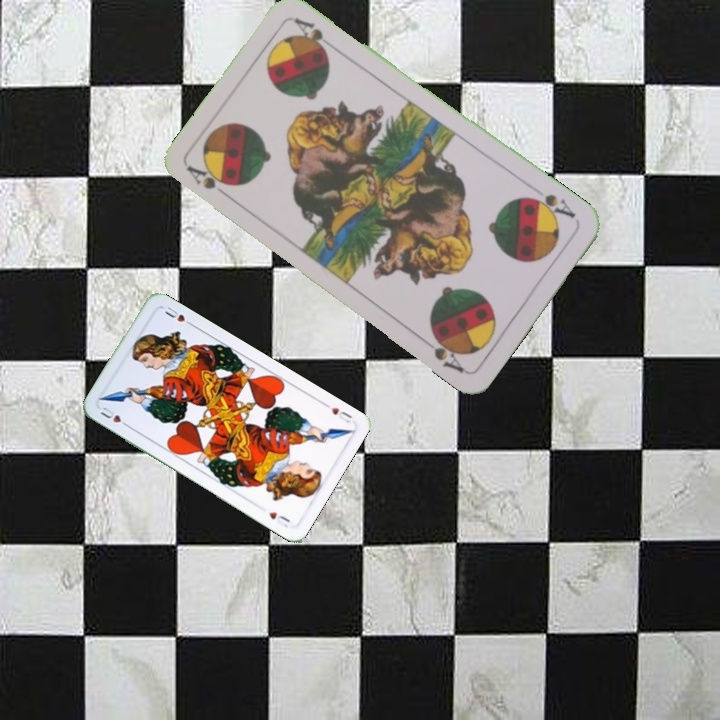HU: (96, 403, 133, 431), (327, 403, 355, 426)
SA: (183, 161, 235, 203), (522, 189, 579, 222)
